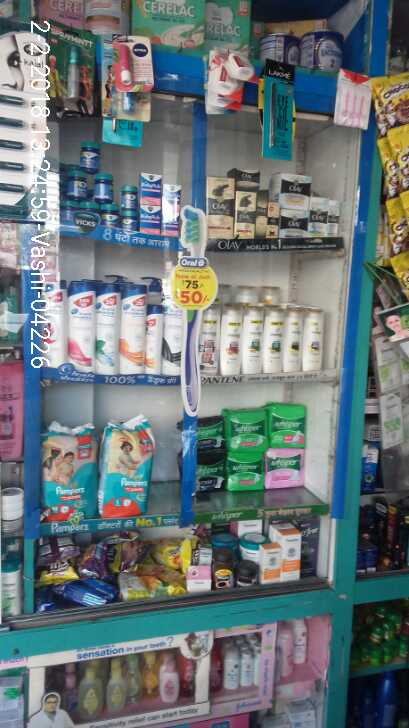beauty: (119, 282, 146, 375), (68, 285, 96, 374), (96, 283, 119, 377), (205, 175, 234, 242), (220, 306, 242, 376), (277, 170, 312, 211), (242, 305, 263, 373), (145, 302, 163, 376), (200, 303, 218, 374), (234, 187, 257, 242), (305, 306, 324, 372), (284, 304, 302, 372), (263, 307, 281, 373), (279, 211, 311, 239), (309, 197, 328, 239), (232, 168, 262, 191), (325, 200, 342, 238), (265, 201, 279, 238)
pharmacy: (99, 421, 156, 515), (41, 427, 92, 527), (266, 404, 310, 452), (221, 411, 269, 454), (186, 451, 225, 498), (268, 452, 309, 490), (225, 457, 266, 491), (63, 165, 89, 203), (162, 183, 179, 236), (79, 139, 100, 170), (93, 172, 114, 201), (141, 175, 160, 204), (138, 203, 156, 231), (119, 182, 134, 213), (99, 208, 119, 229)
